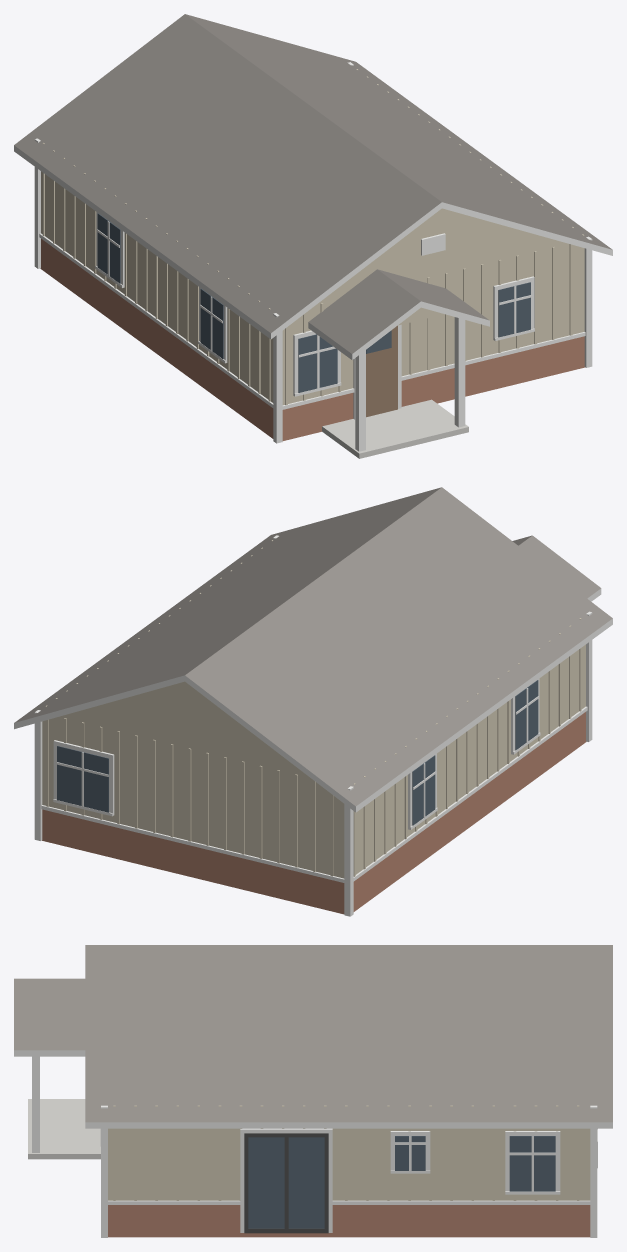
File: walnut-craftsman.glb
3 renders of one model, top to bottom at view 1: azimuth 30°, elevation 25°; view 2: azimuth 150°, elevation 25°; view 3: azimuth 270°, elevation 25°, orthographic. The views are drawn at different scales.
Parts seen in each view (by area): view 1: The Walnut (craftsman); view 2: The Walnut (craftsman); view 3: The Walnut (craftsman).
Boxes of the visible parts, x1,y1,x2,y2 form: The Walnut (craftsman): [14, 14, 612, 458]; The Walnut (craftsman): [14, 487, 612, 916]; The Walnut (craftsman): [14, 945, 612, 1237].
Bounding box in the file's own units: 8.08 × 4.72 × 11.94.
